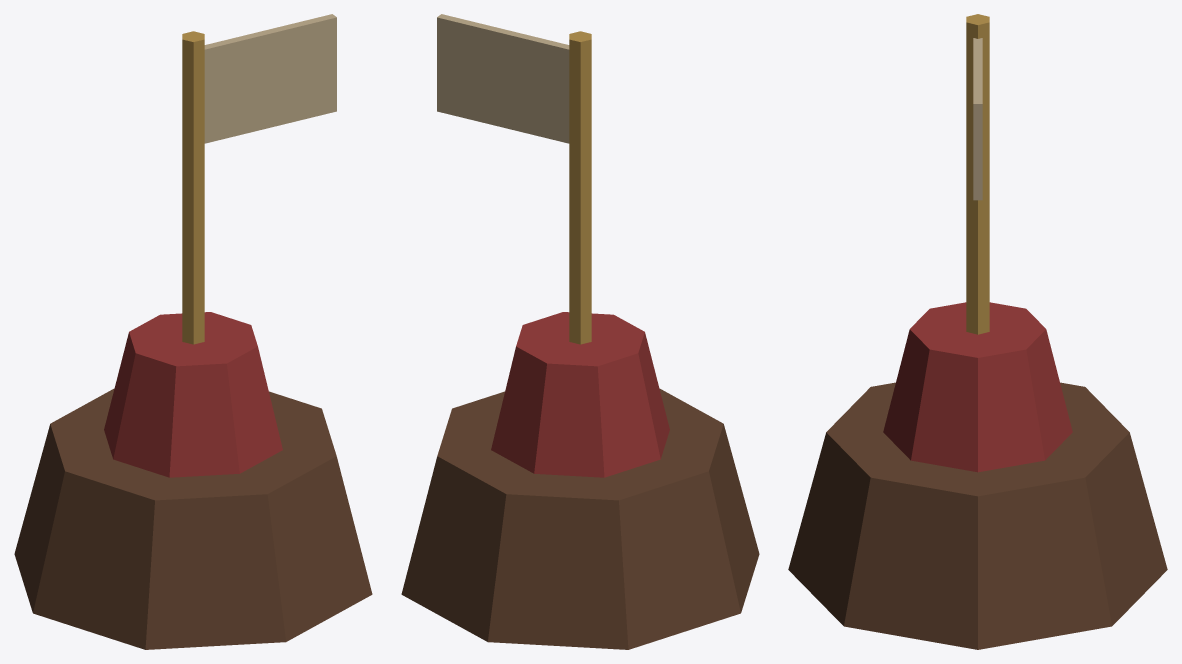
Rendered from PirateCove_SignalBuoy_Simple.glb.
3 views of the same model, side by side, from view 1: azimuth 30°, elevation 25°; view 2: azimuth 150°, elevation 25°; view 3: azimuth 270°, elevation 25° (orthographic). The views are drawn at different scales.
Visible parts, largest first — view 1: PirateCove_SignalBuoy_Simple; view 2: PirateCove_SignalBuoy_Simple; view 3: PirateCove_SignalBuoy_Simple.
Part boxes in pixels (x1,y1,x2,y2): PirateCove_SignalBuoy_Simple: (14,14,372,649); PirateCove_SignalBuoy_Simple: (401,14,759,649); PirateCove_SignalBuoy_Simple: (788,14,1167,649).
Bounding box in the file's own units: 1 × 1.6 × 1.
